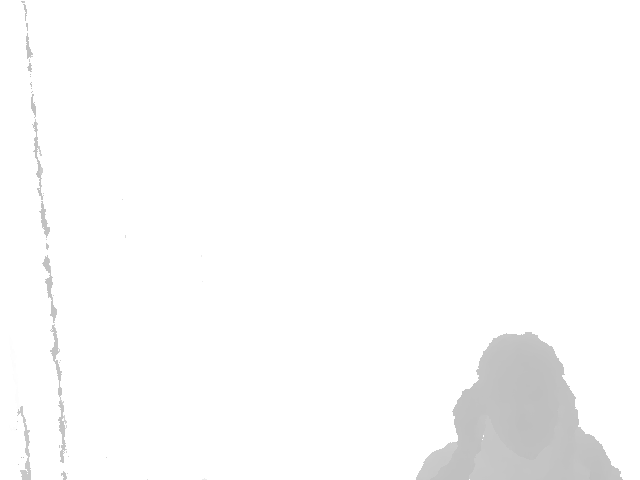head: (479, 332, 563, 458)
person: (414, 332, 626, 480)
